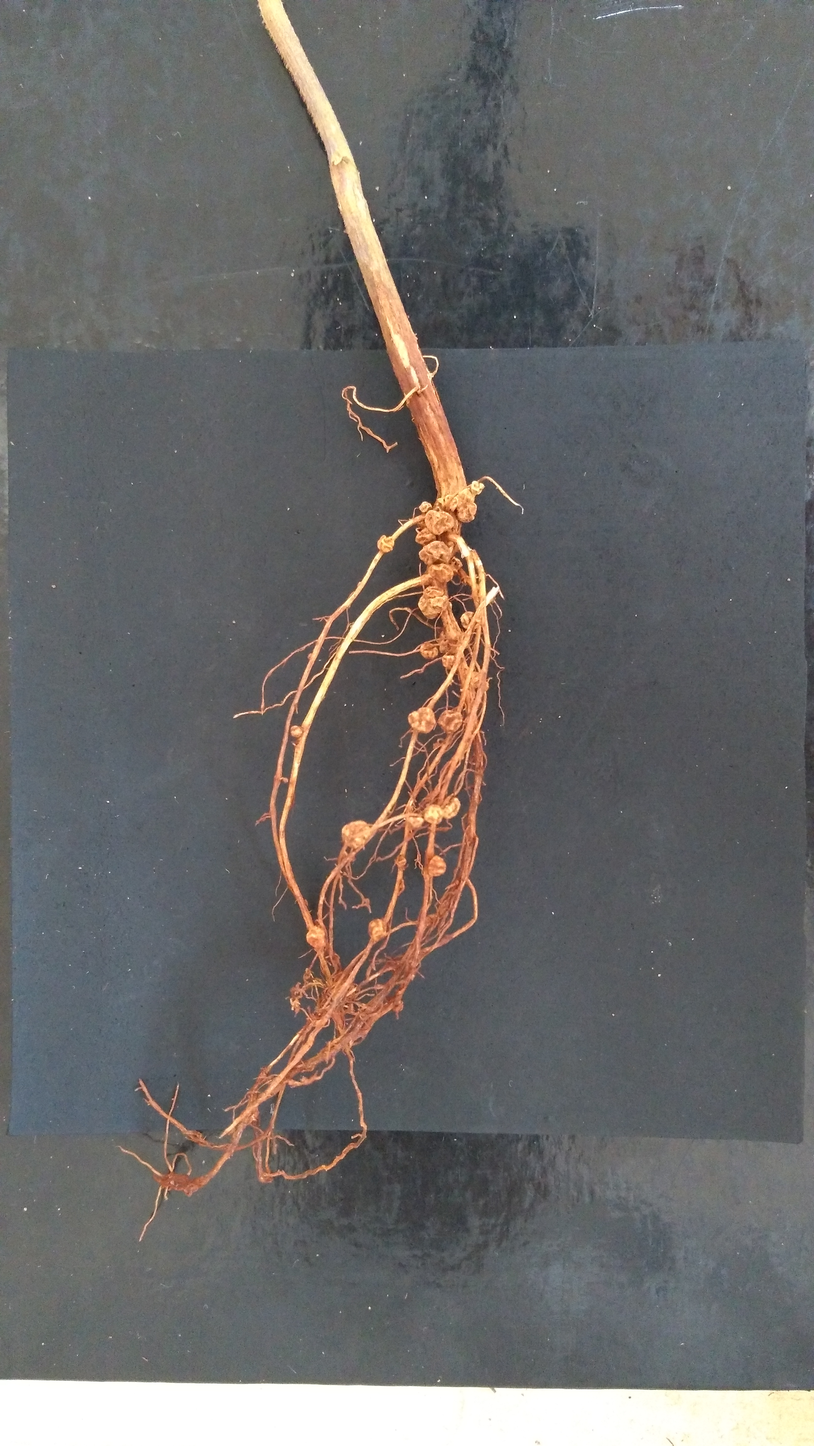nodule: (456, 481, 484, 523), (418, 586, 450, 619), (341, 820, 371, 848), (419, 540, 451, 565), (407, 706, 435, 733), (425, 509, 454, 535), (439, 632, 459, 668), (437, 709, 463, 733), (428, 563, 454, 582), (306, 926, 326, 948), (427, 855, 447, 876), (423, 804, 443, 824), (368, 919, 387, 940), (442, 797, 460, 819), (436, 494, 458, 512), (415, 527, 437, 544), (460, 611, 478, 629), (420, 642, 439, 659), (239, 1108, 259, 1124), (377, 535, 395, 552), (467, 669, 482, 688), (406, 815, 424, 830), (450, 556, 463, 572), (290, 725, 303, 737), (419, 501, 432, 513), (392, 1002, 404, 1014), (395, 855, 407, 866), (307, 652, 313, 659)
